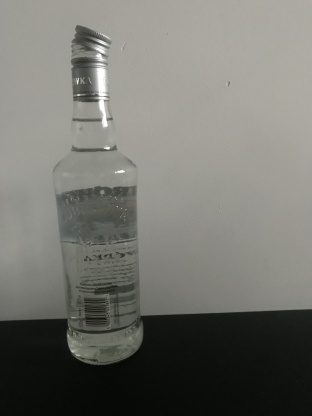nakretka: (69, 21, 113, 102)
